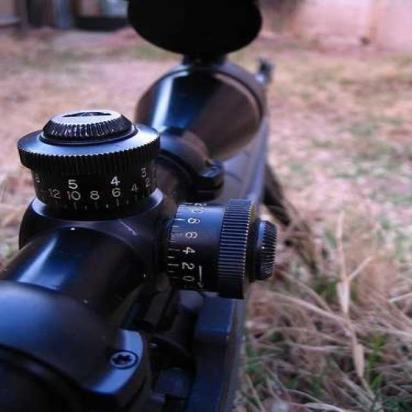Gun: (1, 44, 295, 412)
